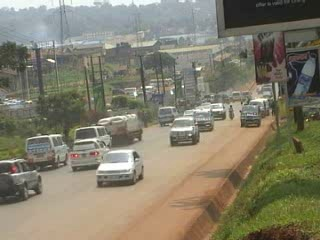Car: (0, 155, 48, 205), (93, 148, 148, 186), (67, 137, 112, 172), (166, 113, 203, 147)
Motorcycle: (228, 107, 235, 120)
